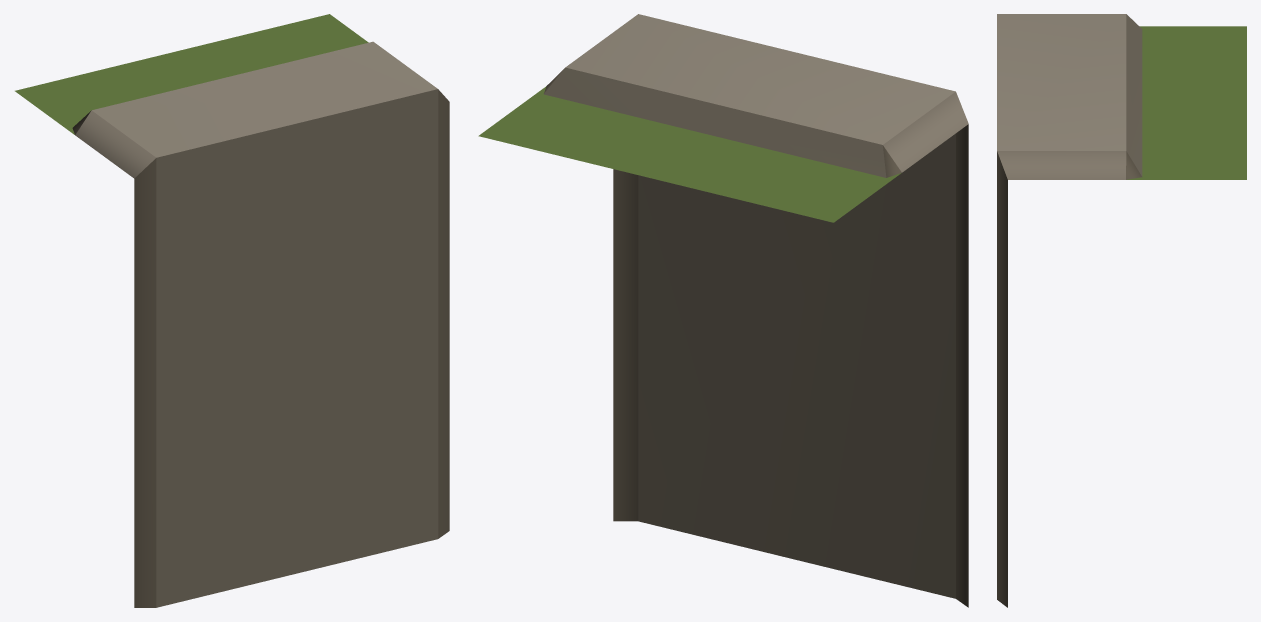
The model's file is SF_Bld_Elven_Blockwall_04.fbx.
The picture shows the model from 3 angles, left to right: view 1: azimuth 30°, elevation 25°; view 2: azimuth 150°, elevation 25°; view 3: azimuth 270°, elevation 25°; orthographic projection. The views are drawn at different scales.
Visible parts, largest first — view 1: SF_Bld_Elven_Blockwall_04; view 2: SF_Bld_Elven_Blockwall_04; view 3: SF_Bld_Elven_Blockwall_04.
Part boxes in pixels (bbox=[...]): SF_Bld_Elven_Blockwall_04: bbox=[15, 14, 449, 607]; SF_Bld_Elven_Blockwall_04: bbox=[478, 14, 968, 607]; SF_Bld_Elven_Blockwall_04: bbox=[997, 14, 1246, 607].
Bounding box in the file's own units: 7.5 × 10.23 × 5.16.
